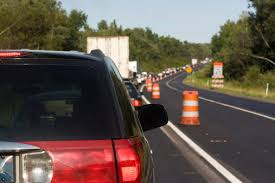car: (1, 50, 156, 182), (117, 81, 143, 112)
cone: (179, 91, 200, 126), (152, 83, 159, 99), (146, 79, 152, 91)
